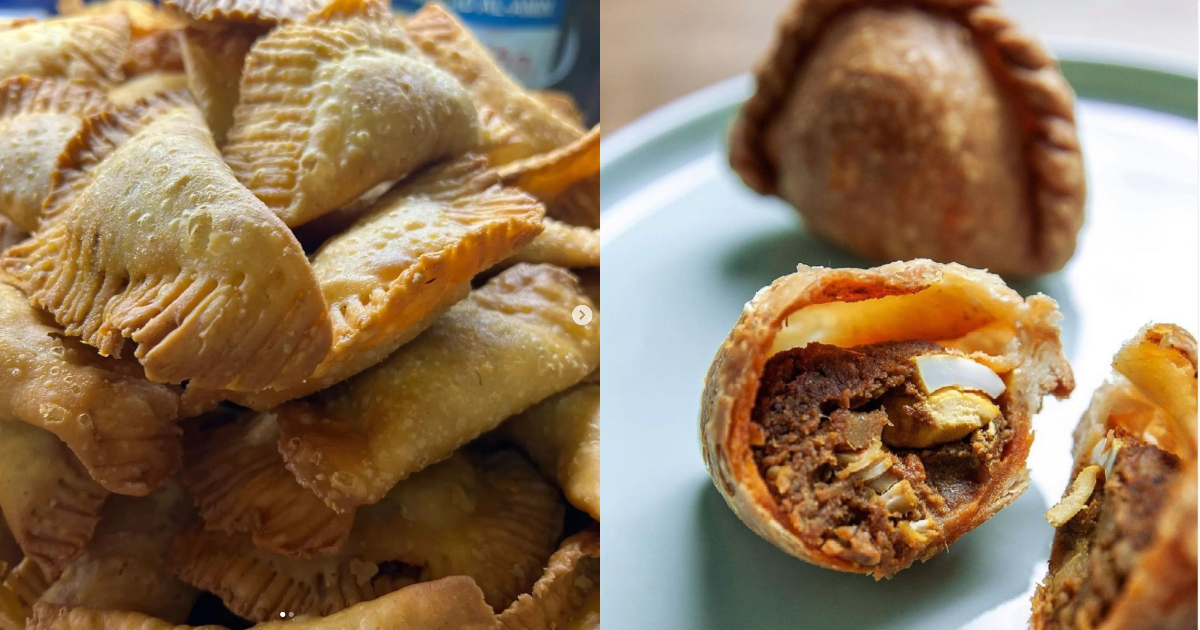Curry Puff: (681, 247, 1052, 572), (698, 9, 1102, 237), (32, 95, 340, 389), (310, 246, 588, 528), (269, 161, 565, 411), (252, 9, 499, 229)
